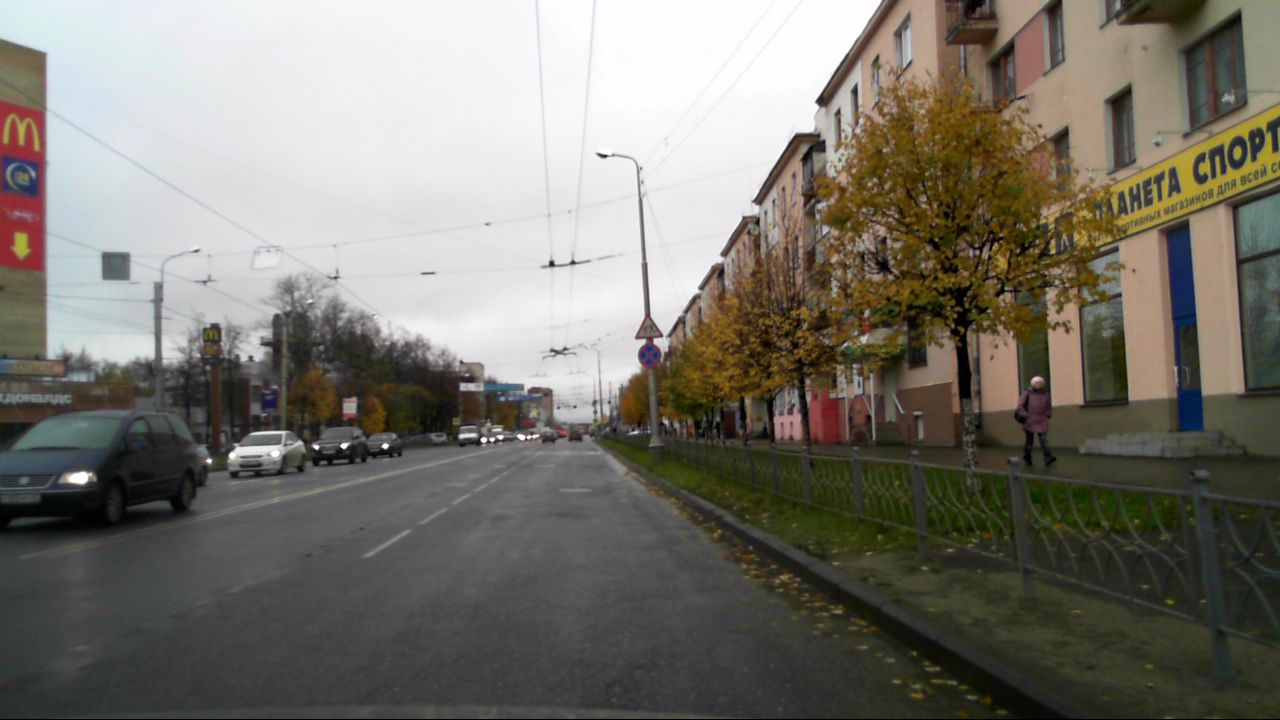No Parking: (637, 343, 661, 368)
